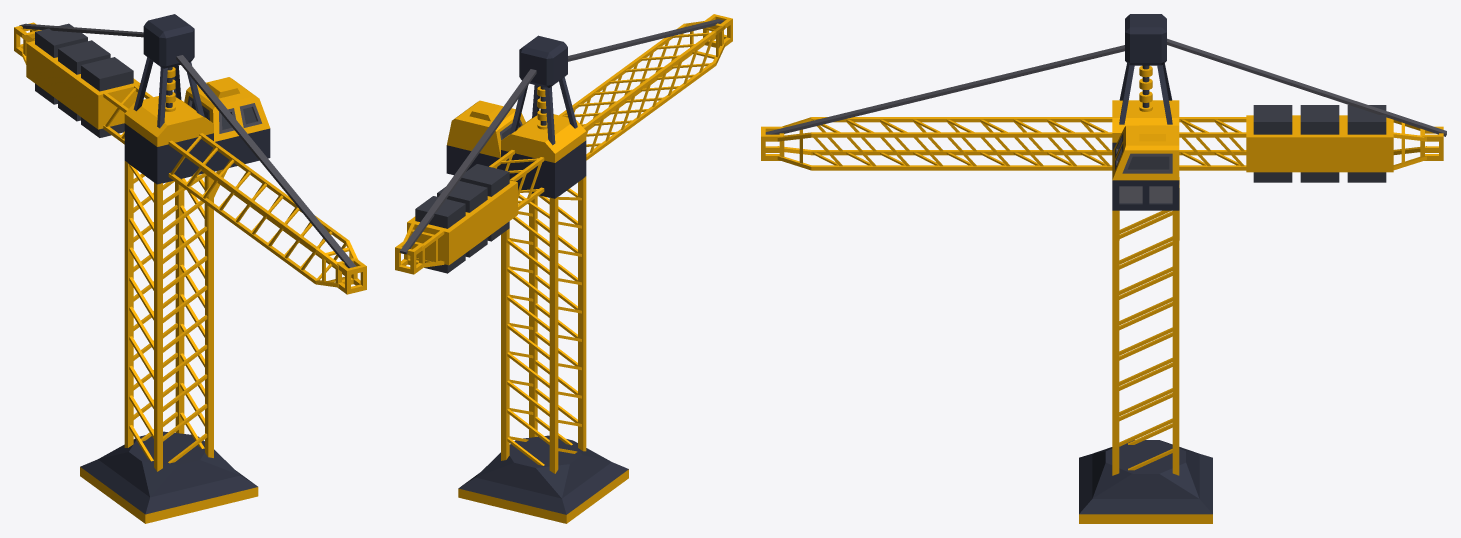
The model's file is Tap.obj.
3 renders of one model, left to right at view 1: azimuth 30°, elevation 25°; view 2: azimuth 150°, elevation 25°; view 3: azimuth 270°, elevation 25°, orthographic. The views are drawn at different scales.
Parts seen in each view (by area): view 1: gear_full, window_dome, wall, diesel_front_basic, detail_fence_center, diesel_cabin_front, block_bevel, gear_slant, block_hollow, body_vents, gear_slantEnforced; view 2: gear_full, window_dome, wall, diesel_front_basic, detail_fence_center, diesel_cabin_front, block_bevel, block_hollow, gear_slant, gear_slantEnforced, body_vents; view 3: gear_full, wall, window_dome, detail_fence_center, diesel_cabin_front, block_bevel, body_vents, diesel_front_basic, gear_slantEnforced, block_hollow, gear_slant.
Boxes of the visible parts, x1,y1,x2,y2 form: gear_full: (103,85,348,471); window_dome: (80,431,258,523); wall: (26,23,140,137); diesel_front_basic: (124,96,213,184); detail_fence_center: (19,23,356,268); diesel_cabin_front: (184,77,269,141); block_bevel: (143,14,194,68); gear_slant: (133,57,204,128); block_hollow: (14,22,366,294); body_vents: (214,128,270,171); gear_slantEnforced: (22,34,357,287); gear_full: (489,24,716,473); window_dome: (458,435,628,523); wall: (407,164,517,273); diesel_front_basic: (501,114,586,198); detail_fence_center: (400,19,723,254); diesel_cabin_front: (447,100,525,157); block_bevel: (519,35,567,87); block_hollow: (395,14,732,274); gear_slant: (509,77,577,145); gear_slantEnforced: (403,21,725,267); body_vents: (446,145,500,174); gear_full: (811,117,1246,475); wall: (1246,105,1393,182); window_dome: (1079,440,1212,523); detail_fence_center: (765,38,1446,136); diesel_cabin_front: (1112,125,1179,180); block_bevel: (1125,14,1166,65); body_vents: (1112,180,1179,210); diesel_front_basic: (1112,100,1179,151); gear_slantEnforced: (777,117,1426,170); block_hollow: (761,126,1443,160); gear_slant: (1119,63,1172,124).
Bounding box in the file's own units: 2.5 × 7.83 × 10.25.
